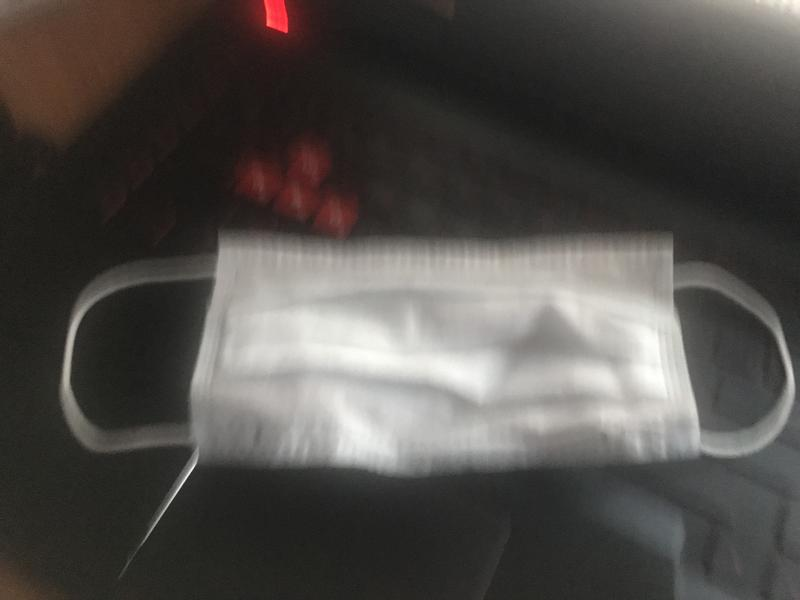medical_mask: (60, 240, 796, 468)
